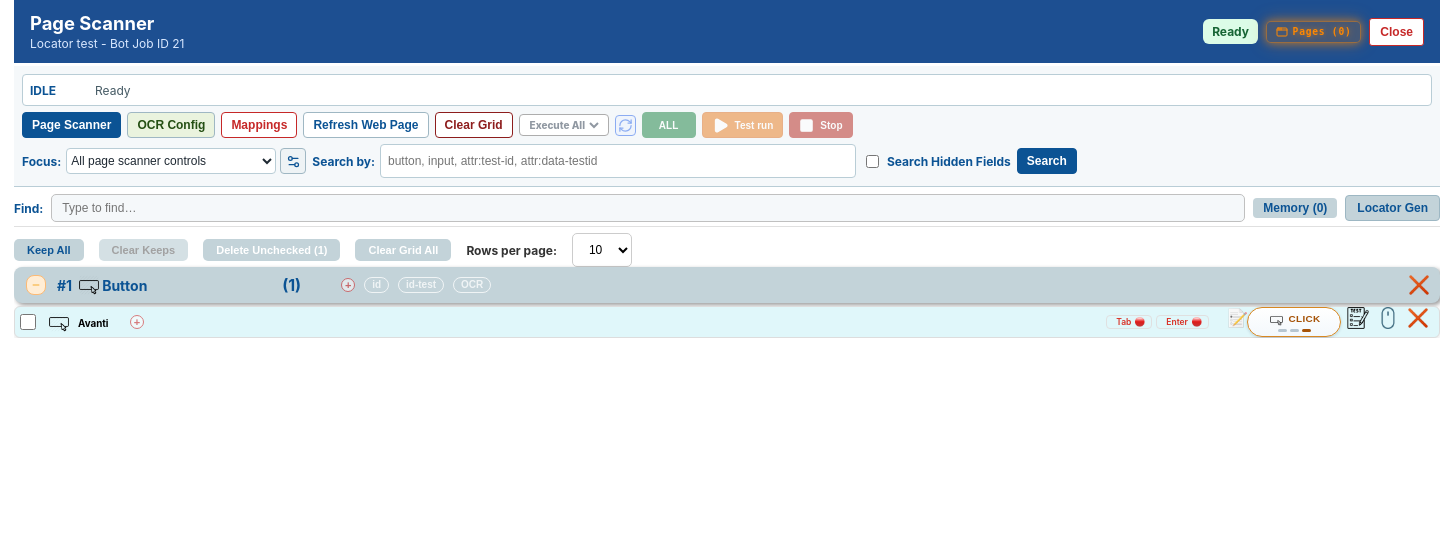
Test: generation timeout releases busy state and reports an unconfirmed request
Click the button with aria-label "Open Locator Generator" at (1393, 208), box [1345, 195, 1440, 221]
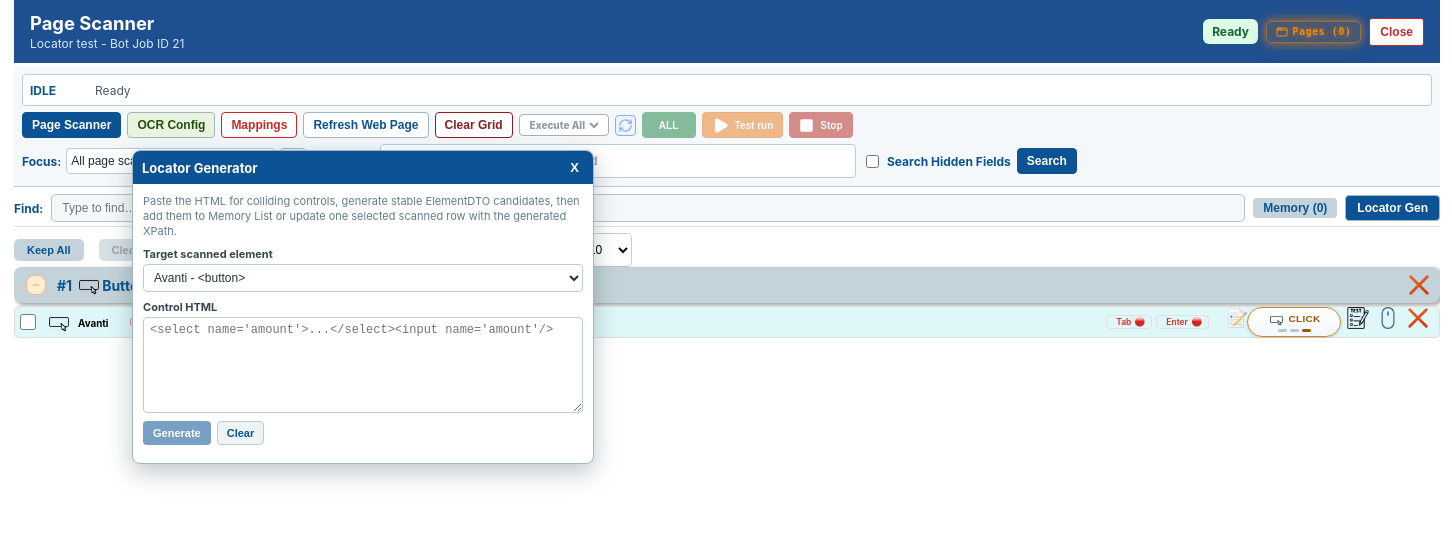
Type "<button test-id='next'>Avanti</button>" into the text box labelled "Control HTML" at (363, 364), box [143, 316, 583, 412]
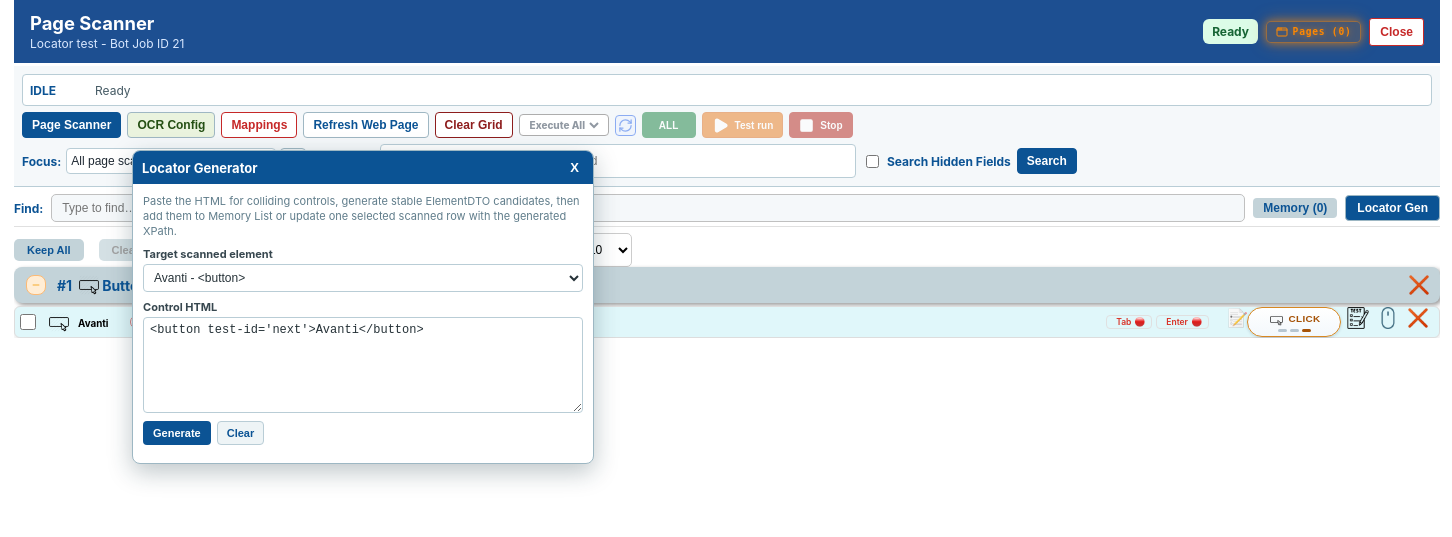
Click the button "Generate" at (177, 432), box [143, 420, 211, 444]
Wait 12000 ms
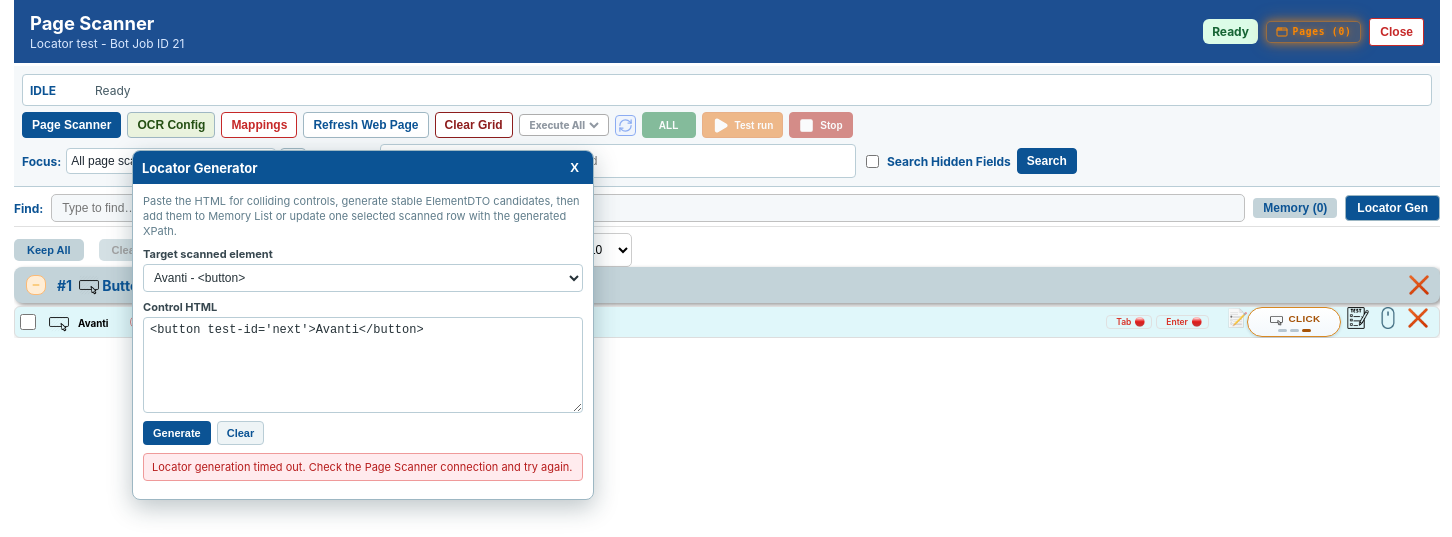
Result: the button "Generate" is enabled at [143, 420, 211, 444]
Result: the message "Locator generation timed out. Check the Page Scanner connection and try again." is shown at [143, 452, 583, 481]
